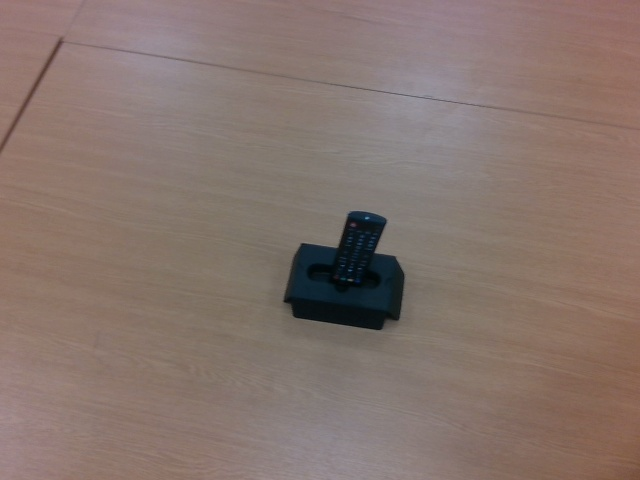remote: (330, 210, 387, 288)
